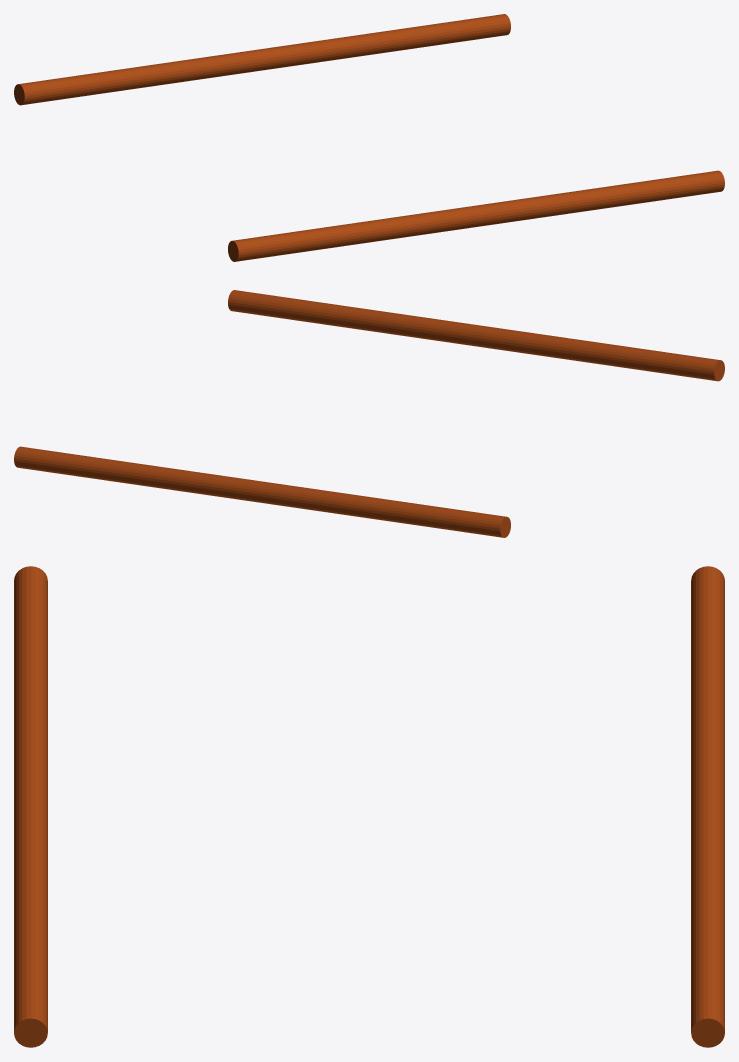
The model's file is base_link__copper.dae.
3 renders of one model, top to bottom at view 1: azimuth 30°, elevation 25°; view 2: azimuth 150°, elevation 25°; view 3: azimuth 270°, elevation 25°, orthographic. The views are drawn at different scales.
Visible parts, largest first — view 1: mesh0-node, mesh1-node; view 2: mesh0-node, mesh1-node; view 3: mesh0-node, mesh1-node.
Part boxes in pixels (x1=…): mesh0-node: x1=228, y1=170, x2=724, y2=261; mesh1-node: x1=14, y1=14, x2=510, y2=105; mesh0-node: x1=228, y1=290, x2=724, y2=381; mesh1-node: x1=14, y1=446, x2=510, y2=537; mesh0-node: x1=14, y1=566, x2=47, y2=1047; mesh1-node: x1=691, y1=566, x2=724, y2=1047.
Bounding box in the file's own units: 0.4215 × 0.336 × 0.0559.
